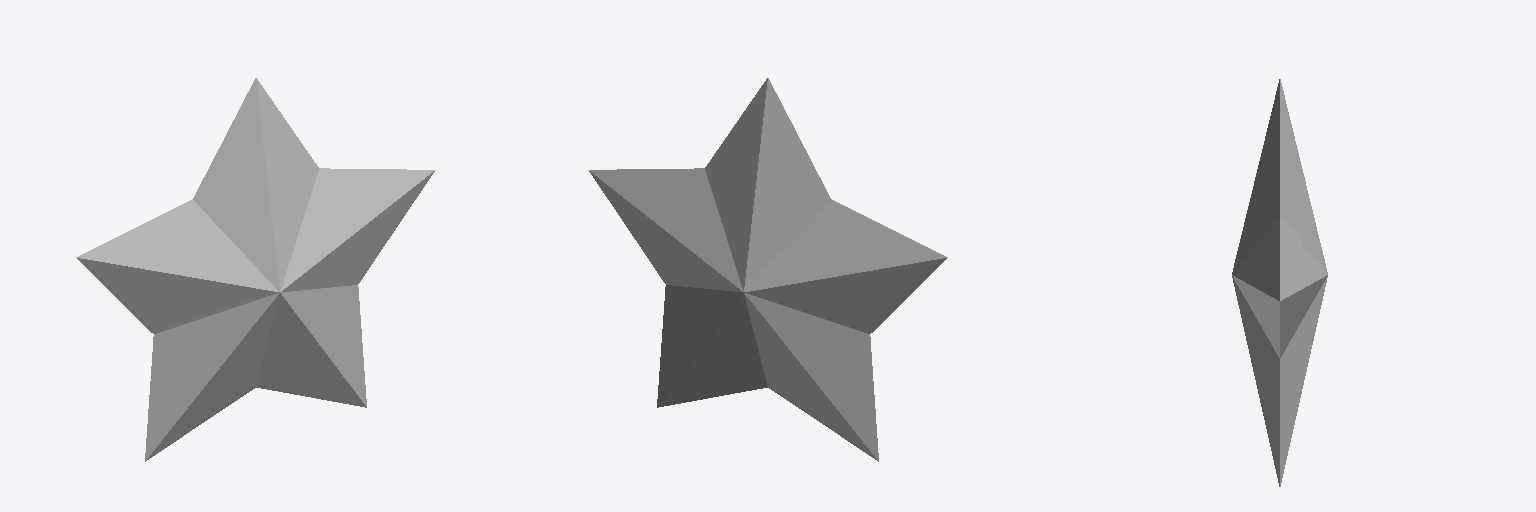
The model's file is STAR_LP.OBJ.
The picture shows the model from 3 angles: view 1: azimuth 30°, elevation 25°; view 2: azimuth 150°, elevation 25°; view 3: azimuth 270°, elevation 25°; orthographic projection.
Visible parts, largest first — view 1: Cylinder_Cylinder.001; view 2: Cylinder_Cylinder.001; view 3: Cylinder_Cylinder.001.
Boxes of the visible parts, box(x1,y1,x2,y2) form: Cylinder_Cylinder.001: box(76, 78, 434, 461); Cylinder_Cylinder.001: box(589, 78, 947, 461); Cylinder_Cylinder.001: box(1232, 79, 1327, 486).
Size of the model in its own units: 2.85 by 2.71 by 0.6628.